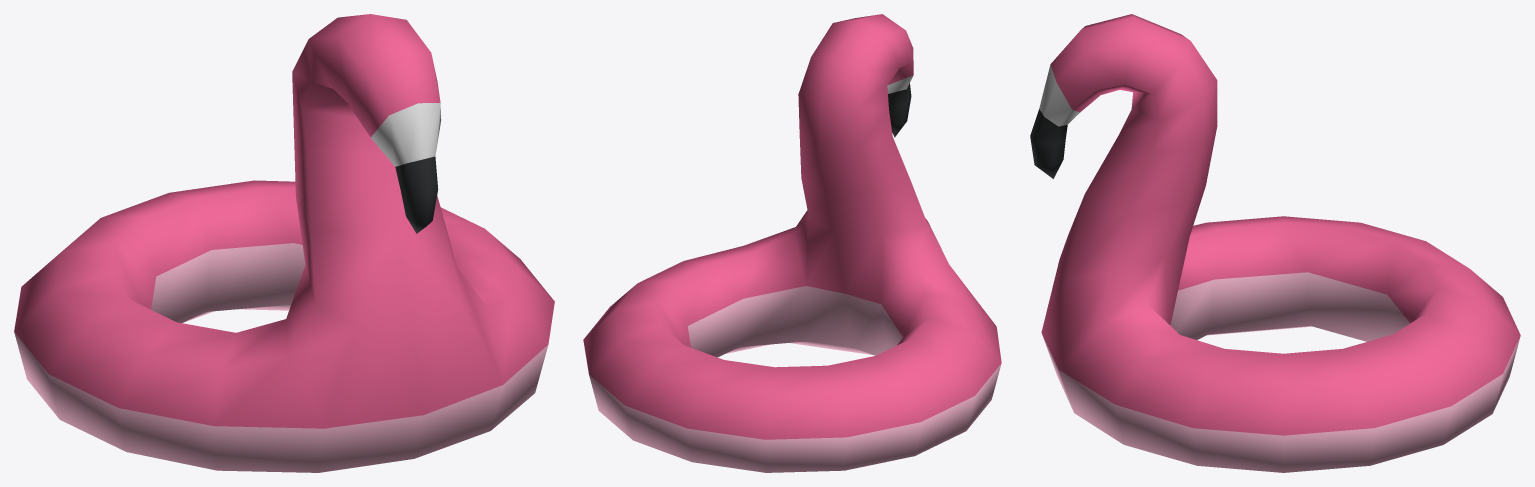
The model's file is duck1.fbx.
3 views of the same model, side by side, from view 1: azimuth 30°, elevation 25°; view 2: azimuth 150°, elevation 25°; view 3: azimuth 270°, elevation 25° (orthographic). The views are drawn at different scales.
Visible parts, largest first — view 1: duck1; view 2: duck1; view 3: duck1.
Part boxes in pixels (box(x1,y1,x2,y2)): duck1: box(14, 14, 554, 472); duck1: box(583, 14, 1001, 472); duck1: box(1030, 14, 1520, 472).
Bounding box in the file's own units: 191 × 169 × 197.
